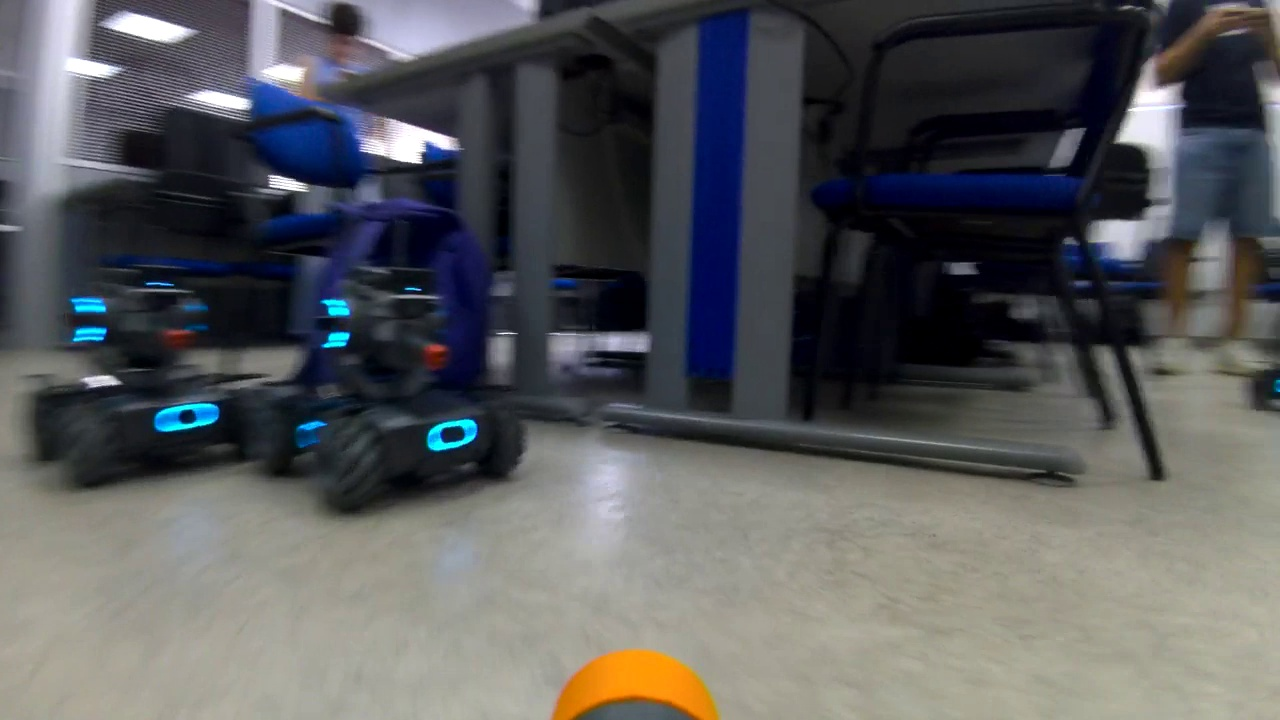robot: (261, 230, 533, 517), (33, 232, 252, 488)
